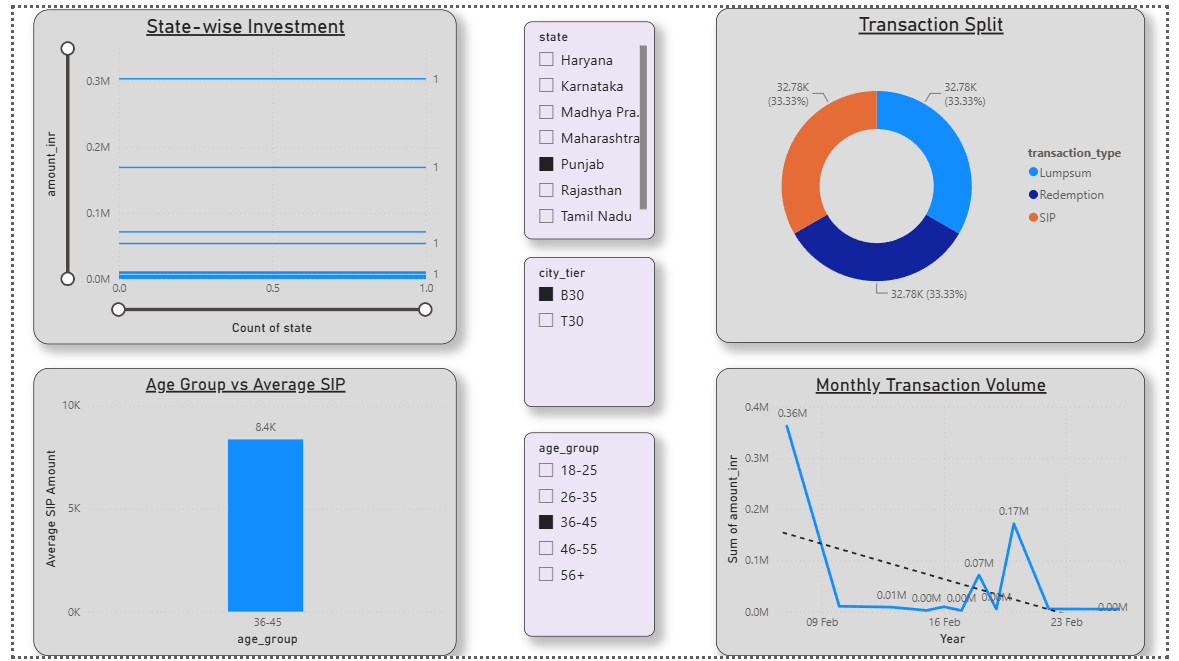

What the dashboard file says about the page in this screenshot:
{"tool":"powerbi","page":{"name":"Investor Analytics","canvas":[1280,720],"ordinal":4},"visuals":[{"type":"clusteredBarChart","title":"State-wise Investment","fields":{"Category":["dashboard_dataset.amount_inr"],"Y":["CountNonNull(dashboard_dataset.state)"]},"box":[21.7,1.7,470,371.7],"z":0},{"type":"donutChart","title":"Transaction Split","fields":{"Category":["dashboard_dataset.transaction_type"],"Y":["CountNonNull(clean_transactions.investor_id)"]},"box":[780,0,476.7,371.7],"z":1},{"type":"clusteredColumnChart","title":"Age Group vs Average SIP","fields":{"Y":["aum_by_fund_house.Average SIP Amount"],"Category":["dashboard_dataset.age_group"]},"box":[21.7,400,470,320],"z":2},{"type":"lineChart","title":"Monthly Transaction Volume","fields":{"Category":["dashboard_dataset.transaction_date.Variation.Date Hierarchy.Year","dashboard_dataset.transaction_date.Variation.Date Hierarchy.Quarter","dashboard_dataset.transaction_date.Variation.Date Hierarchy.Month","dashboard_dataset.transaction_date.Variation.Date Hierarchy.Day"],"Y":["Sum(dashboard_dataset.amount_inr)"]},"box":[780,400,476.7,320],"z":3},{"type":"slicer","fields":{"Values":["dashboard_dataset.age_group"]},"box":[566.7,471.7,145,226.7],"z":4},{"type":"slicer","title":"City Tier","fields":{"Values":["dashboard_dataset.city_tier"]},"box":[566.7,276.7,145,166.7],"z":5},{"type":"slicer","fields":{"Values":["dashboard_dataset.state"]},"box":[566.7,15,145,241.7],"z":6}]}

Visuals, with their boxes in screenshot pixels (x1, y1, x2, y2), scaled from the page's 1280x720 canvas onto the 1179x661 screenshot:
"State-wise Investment" clusteredBarChart: rect(20, 2, 453, 343)
"Transaction Split" donutChart: rect(718, 0, 1158, 341)
"Age Group vs Average SIP" clusteredColumnChart: rect(20, 367, 453, 660)
"Monthly Transaction Volume" lineChart: rect(718, 367, 1158, 660)
slicer - dashboard_dataset.age_group: rect(522, 433, 656, 641)
"City Tier" slicer: rect(522, 254, 656, 407)
slicer - dashboard_dataset.state: rect(522, 14, 656, 236)
